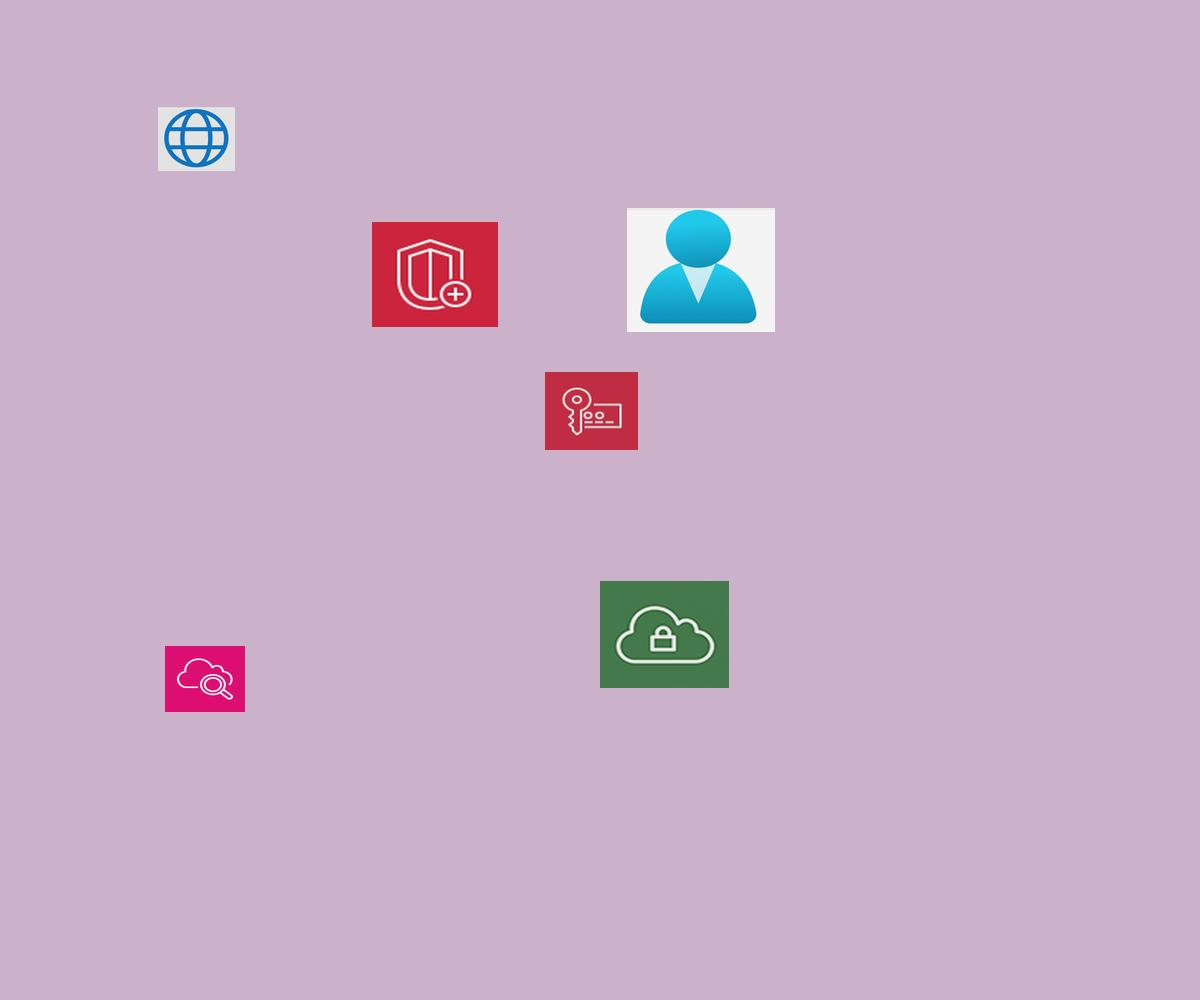AWS-CloudWatch: (165, 646, 245, 712)
AWS-Key-Management-Service: (545, 372, 638, 450)
AWS-Private_vpc: (600, 581, 729, 688)
AWS-Shield: (372, 222, 498, 327)
Azure_http: (158, 107, 235, 171)
Azure_users: (627, 208, 775, 332)
